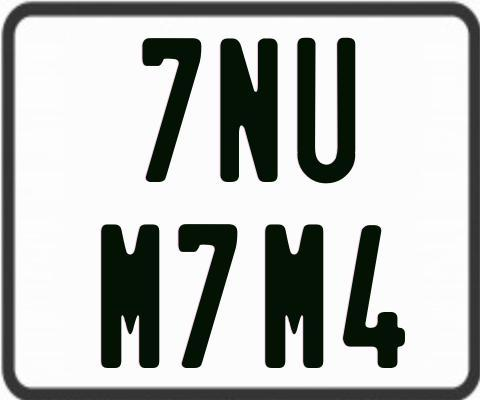4: (340, 225, 407, 373)
7: (140, 37, 205, 182), (175, 221, 236, 371)
M: (101, 223, 163, 371), (264, 221, 325, 368)
N: (219, 38, 280, 186)
U: (295, 35, 354, 184)
